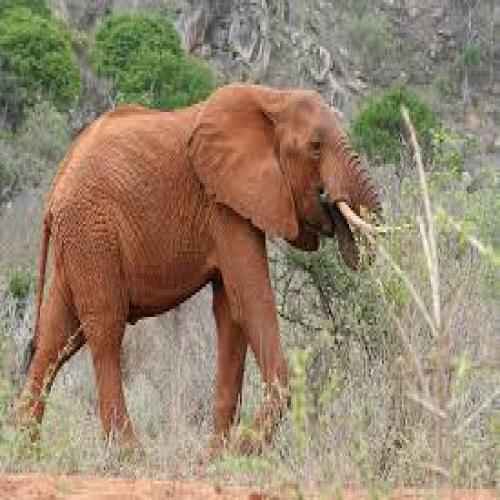asian_elephant-endangered: (27, 86, 388, 457)
